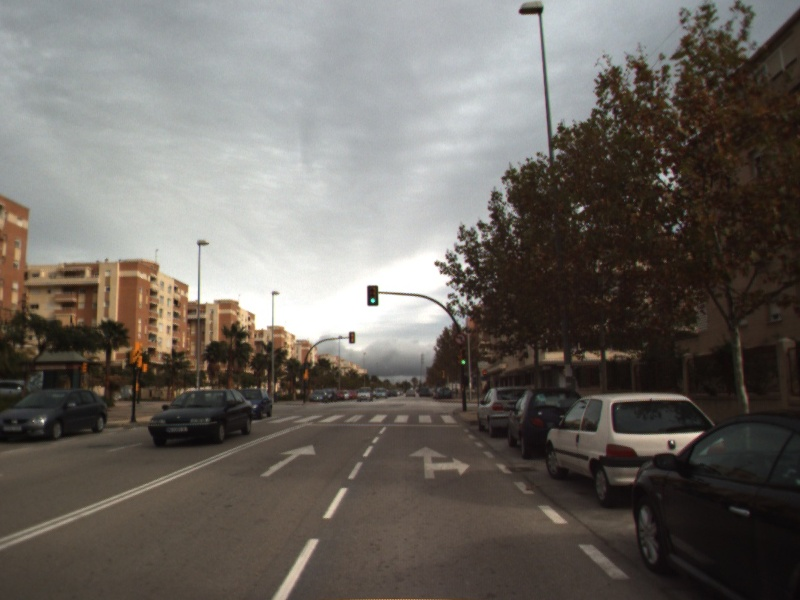STRAIGHT: (258, 442, 318, 478)
STRAIGHT_RIGHT: (407, 444, 472, 480)
